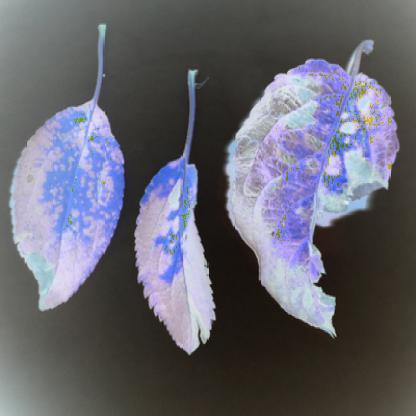Apple rust leaf: (222, 25, 406, 347), (6, 99, 130, 332), (134, 148, 224, 373)
